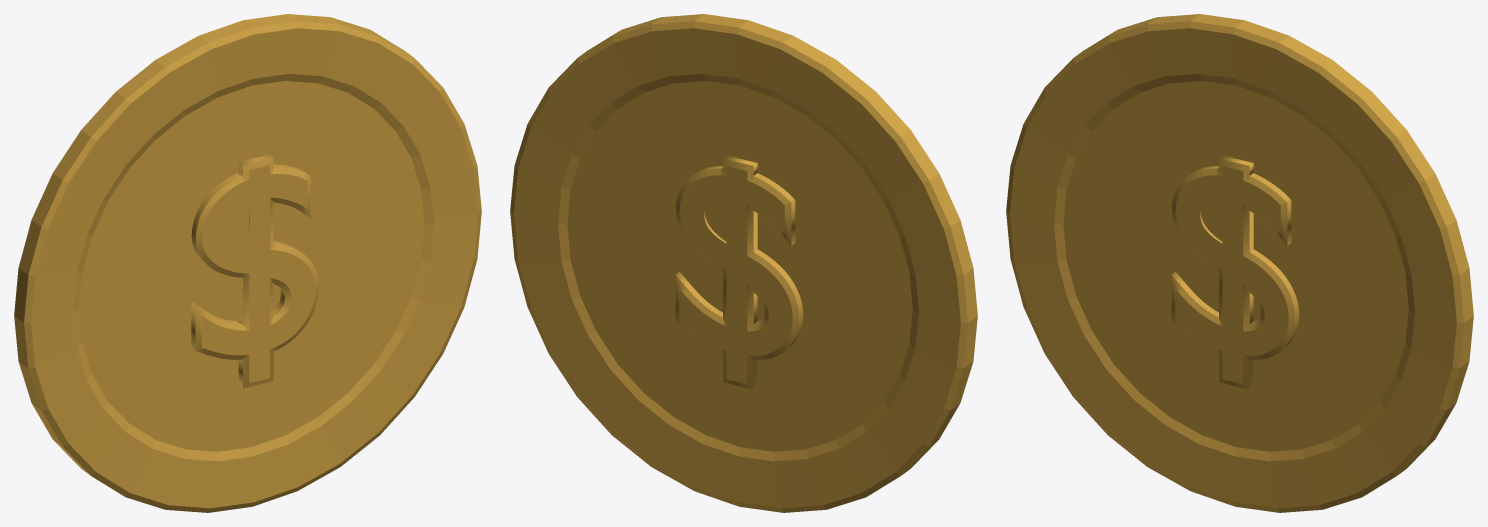
File: Gold Coin.fbx
The picture shows the model from 3 angles, left to right: view 1: azimuth 30°, elevation 25°; view 2: azimuth 150°, elevation 25°; view 3: azimuth 330°, elevation 25°; orthographic projection.
Parts seen in each view (by area): view 1: Cylinder; view 2: Cylinder; view 3: Cylinder.
Part boxes in pixels (bbox=[...]): Cylinder: bbox=[14, 14, 481, 512]; Cylinder: bbox=[510, 14, 977, 512]; Cylinder: bbox=[1006, 14, 1473, 512].
Bounding box in the file's own units: 414 × 414 × 29.28.
